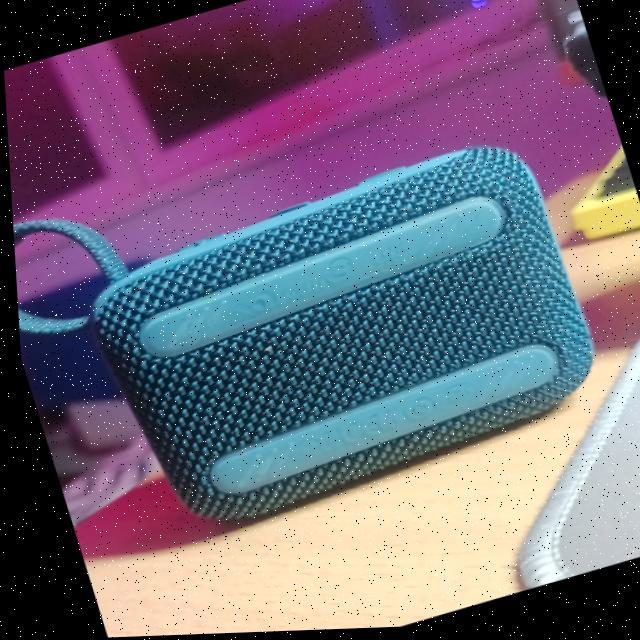column JBL: (4, 63, 640, 571)
